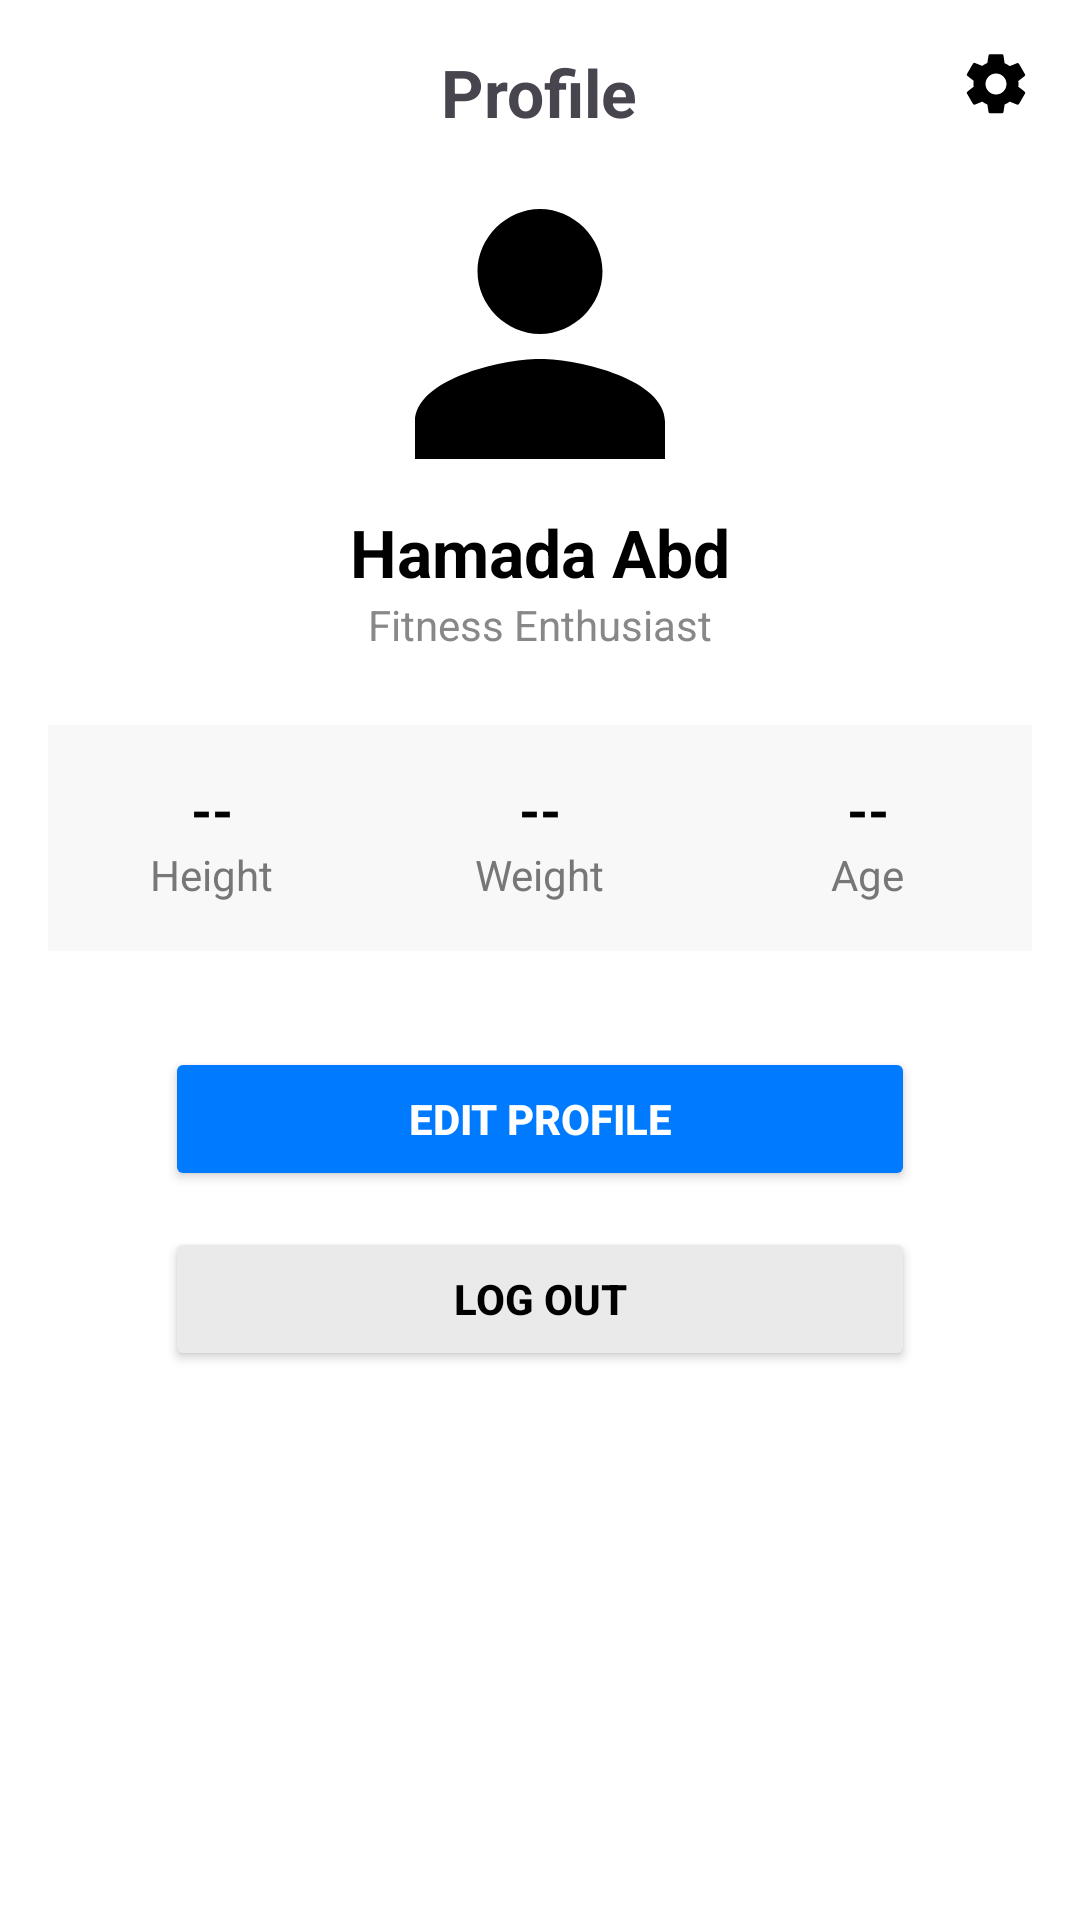

Named icons in this screenshot (1080w x 1920h) and their centers, point (x, y):
person: point (540, 334)
settings: point (996, 84)
